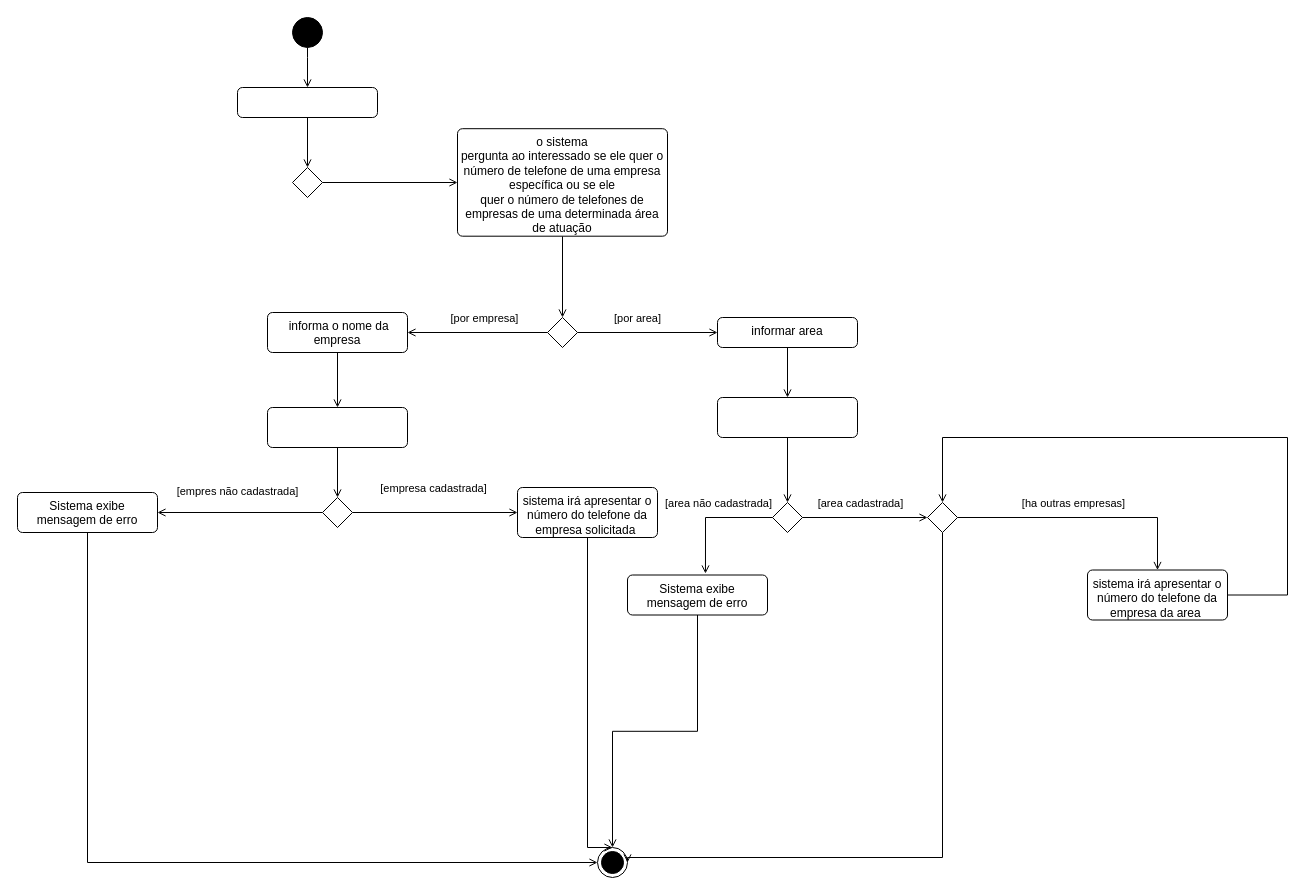
Some shapes in this 1313 by 895 pixel diagram are drawn without their labels. Each missing label, with the centre of its shape:
"indentificar o usuario" belongs at point (307, 102).
"sistema verifica cadastro da empresa" belongs at point (337, 427).
"sistema verifica cadastro de areas" belongs at point (787, 417).
